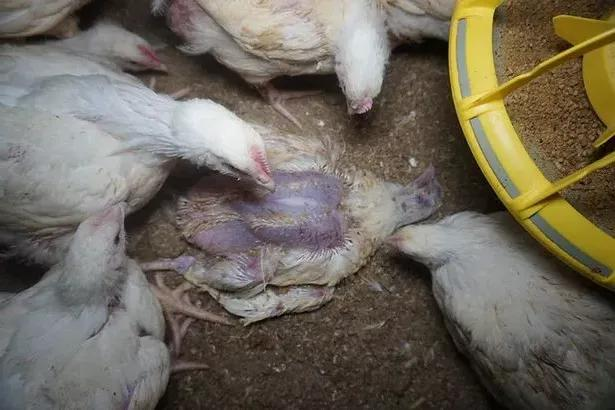AbNormal: (152, 101, 440, 319)
